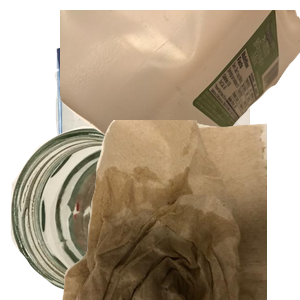glass: (10, 126, 220, 300)
paper: (52, 34, 292, 214)
plastic: (60, 10, 300, 160)
trash: (60, 120, 300, 300)
